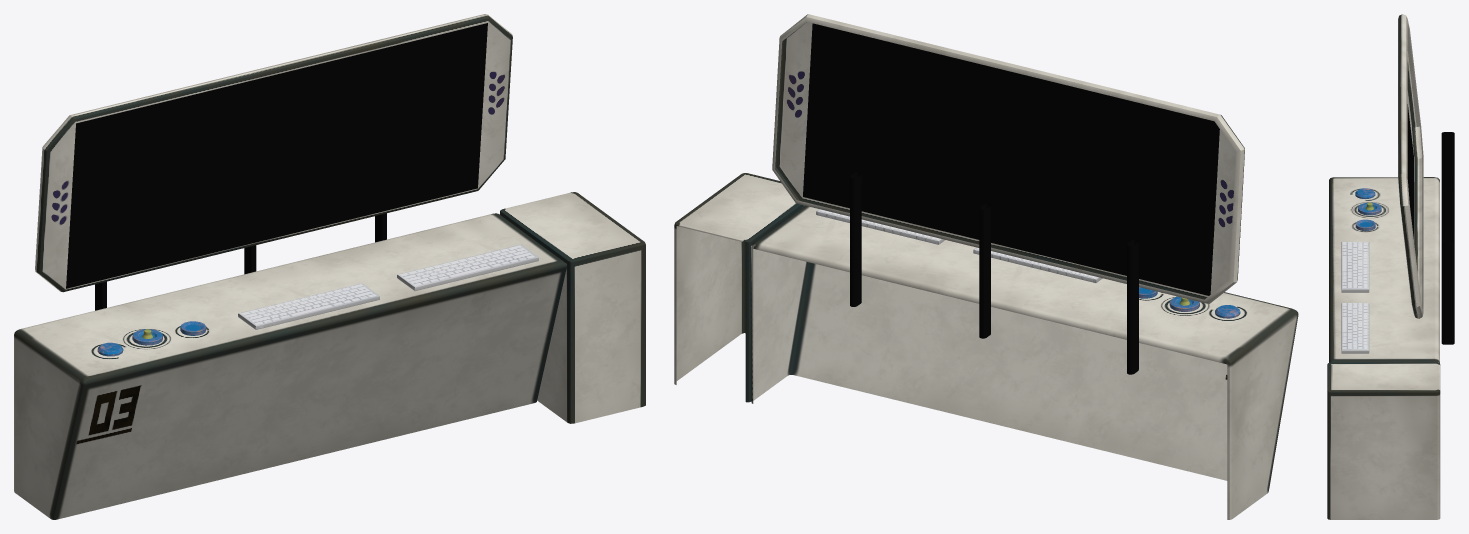
The model's file is TerminalHospital3_UV.fbx.
3 views of the same model, side by side, from view 1: azimuth 30°, elevation 25°; view 2: azimuth 150°, elevation 25°; view 3: azimuth 270°, elevation 25° (orthographic). The views are drawn at different scales.
Visible parts, largest first — view 1: terminalhospital2_UV:Panel_medicoSala_medica; view 2: terminalhospital2_UV:Panel_medicoSala_medica; view 3: terminalhospital2_UV:Panel_medicoSala_medica.
Part boxes in pixels (x1,y1,x2,y2): terminalhospital2_UV:Panel_medicoSala_medica: [14, 14, 645, 519]; terminalhospital2_UV:Panel_medicoSala_medica: [674, 14, 1298, 519]; terminalhospital2_UV:Panel_medicoSala_medica: [1327, 14, 1454, 519].
Bounding box in the file's own units: 324 × 211 × 80.48.
Materials: 5 (5 with a texture image).
